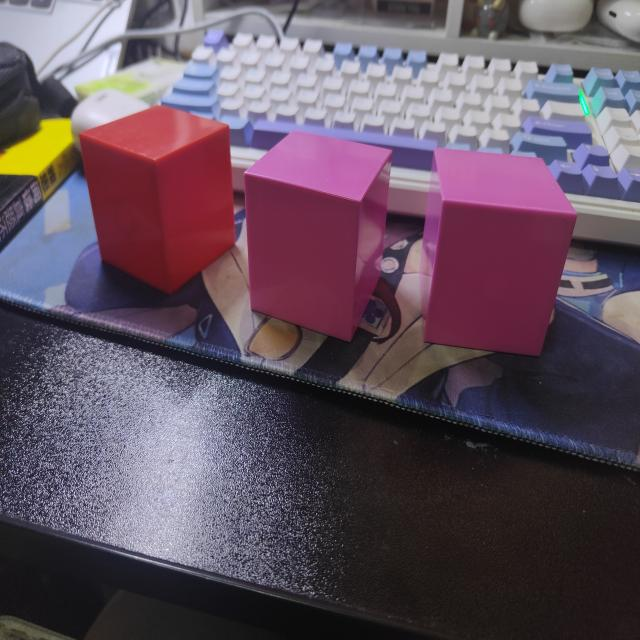pink: (419, 151, 579, 354), (245, 131, 395, 344)
red: (79, 103, 236, 295)
